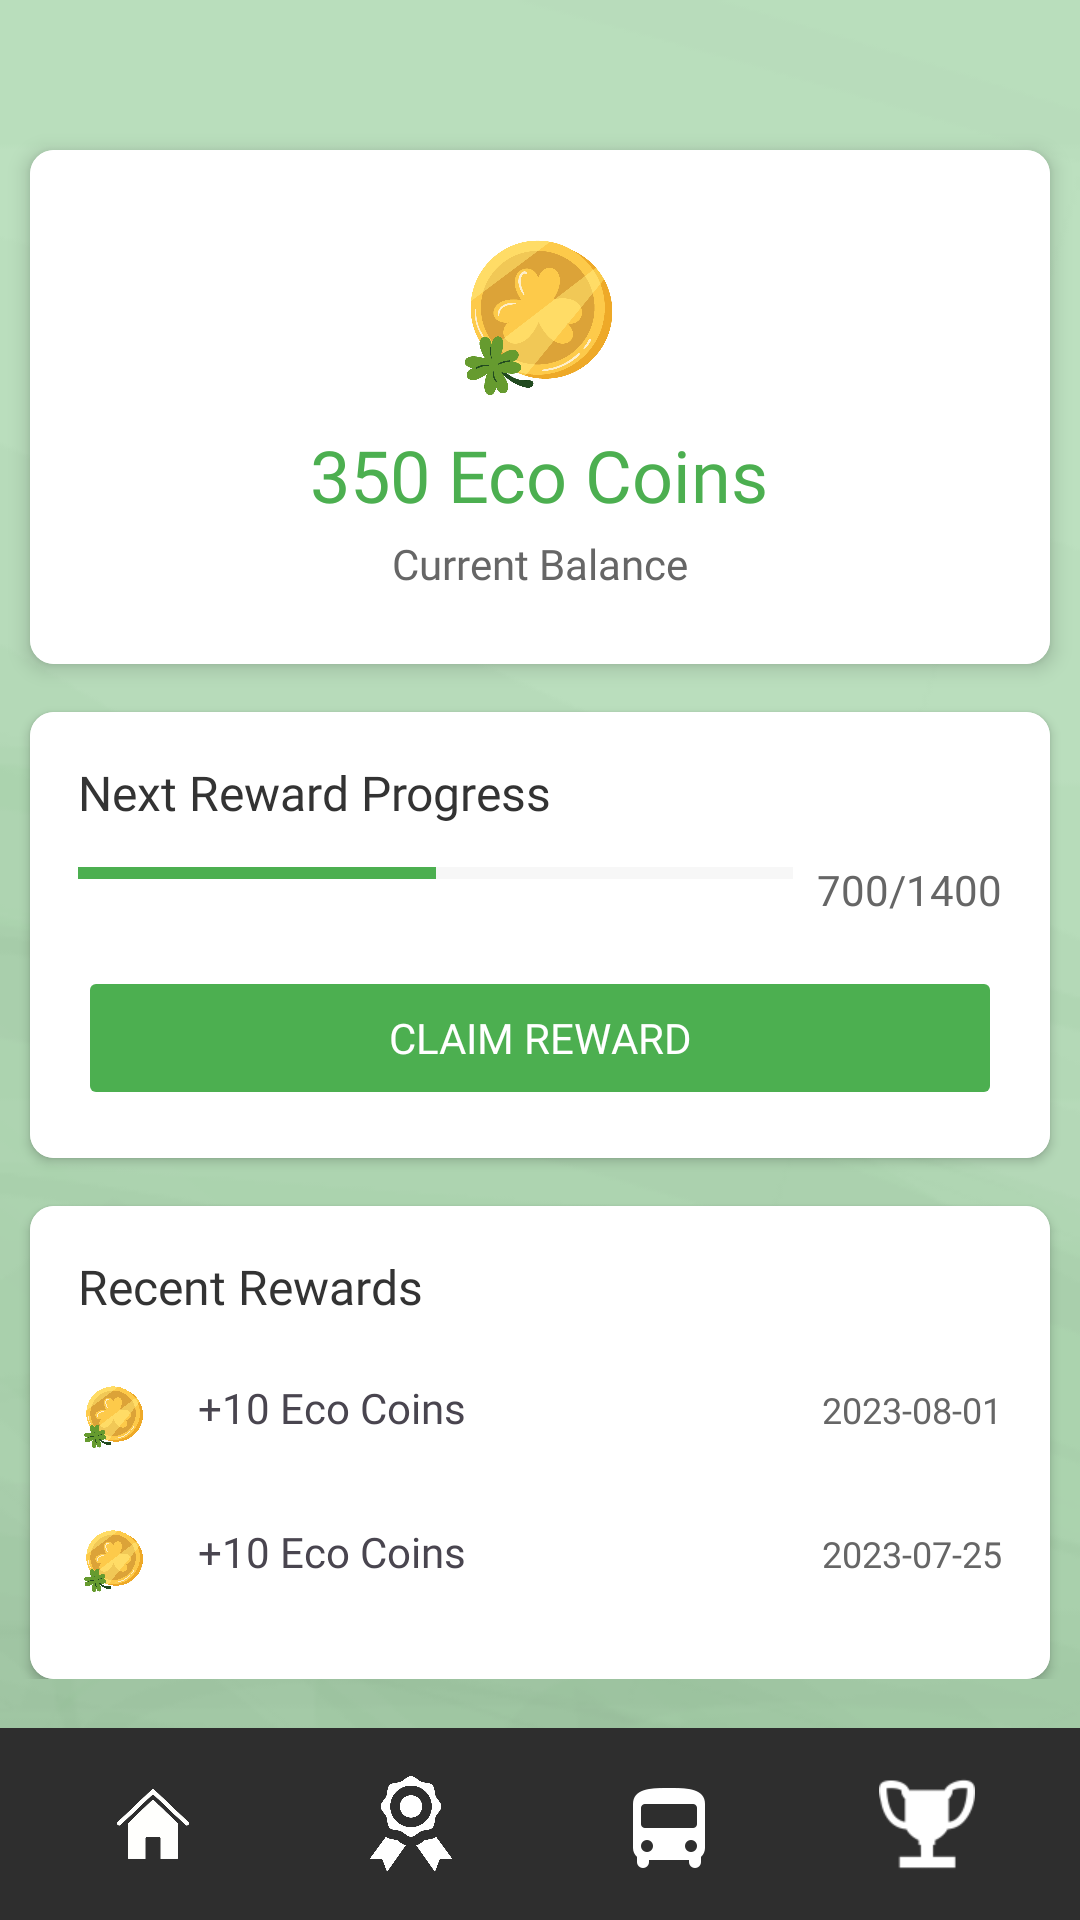

Icon bounding boxes for this 1080x1920 phone screenshot, format bbox(x1, y1, x2, y2):
Home: bbox(117, 1789, 189, 1859)
Reward: bbox(370, 1776, 452, 1871)
Transport: bbox(633, 1788, 705, 1868)
Trophy: bbox(879, 1780, 975, 1868)
